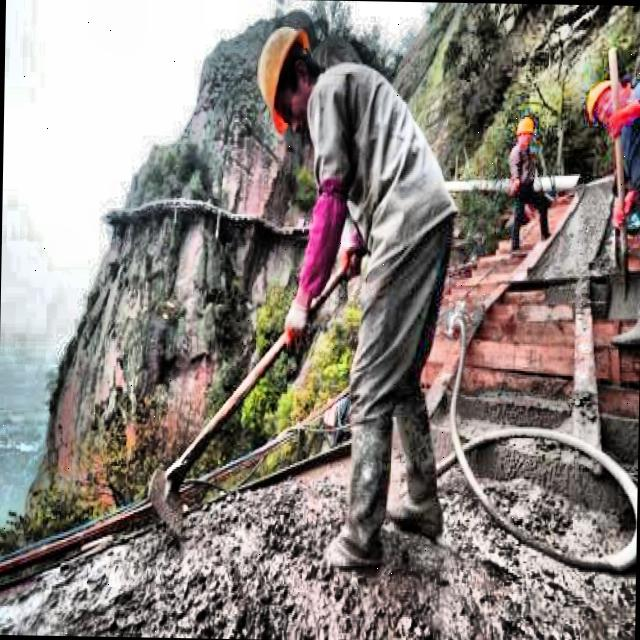helmet: (255, 24, 321, 135), (582, 76, 622, 130), (515, 111, 538, 146)
